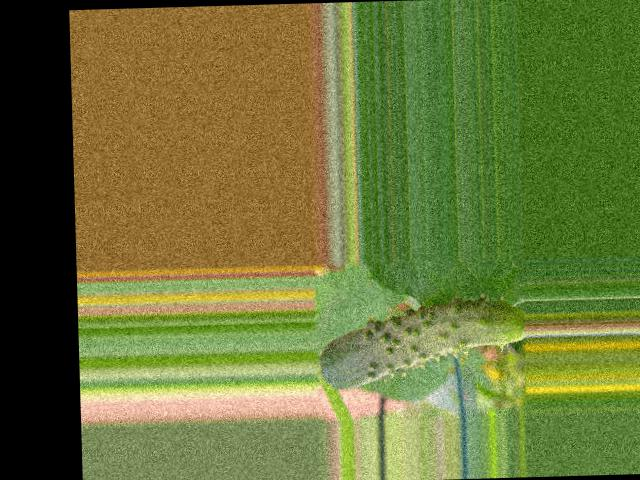cucumber: (316, 295, 526, 389)
